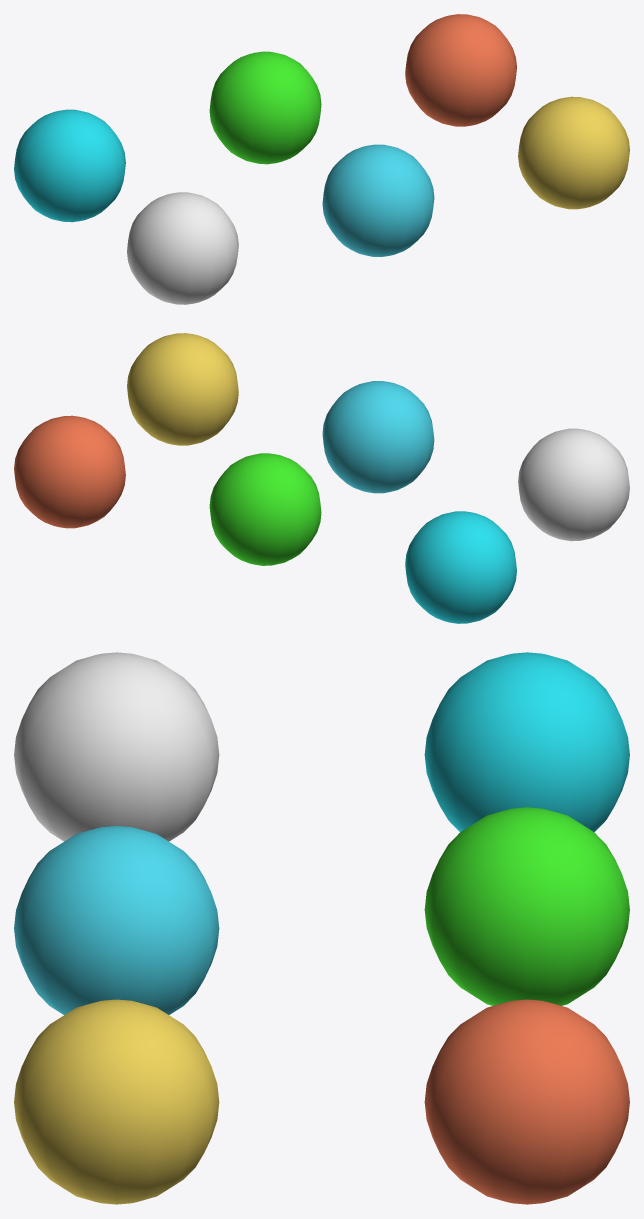
File: PBR.glb
3 renders of one model, top to bottom at view 1: azimuth 30°, elevation 25°; view 2: azimuth 150°, elevation 25°; view 3: azimuth 270°, elevation 25°, orthographic. The views are drawn at different scales.
Visible parts, largest first — view 1: Sphere, Sphere.002, Sphere.003, Sphere.006, Sphere.007, Sphere.005; view 2: Sphere.005, Sphere.006, Sphere.007, Sphere.003, Sphere, Sphere.002; view 3: Sphere.002, Sphere.007, Sphere.005, Sphere.006, Sphere.003, Sphere.
Boxes of the visible parts, x1=… form: Sphere: x1=14, y1=109, x2=125, y2=222; Sphere.002: x1=518, y1=96, x2=629, y2=209; Sphere.003: x1=322, y1=144, x2=434, y2=256; Sphere.006: x1=127, y1=192, x2=238, y2=304; Sphere.007: x1=405, y1=14, x2=516, y2=126; Sphere.005: x1=209, y1=51, x2=321, y2=164; Sphere.005: x1=209, y1=453, x2=321, y2=565; Sphere.006: x1=518, y1=428, x2=629, y2=541; Sphere.007: x1=14, y1=415, x2=125, y2=528; Sphere.003: x1=322, y1=381, x2=434, y2=493; Sphere: x1=405, y1=511, x2=516, y2=623; Sphere.002: x1=127, y1=333, x2=238, y2=445; Sphere.002: x1=14, y1=999, x2=219, y2=1204; Sphere.007: x1=424, y1=999, x2=629, y2=1204; Sphere.005: x1=424, y1=807, x2=629, y2=1005; Sphere.006: x1=14, y1=652, x2=219, y2=841; Sphere.003: x1=14, y1=826, x2=219, y2=1014; Sphere: x1=424, y1=652, x2=629, y2=832.
Size of the model in its own units: 5 by 1.1 by 3.
